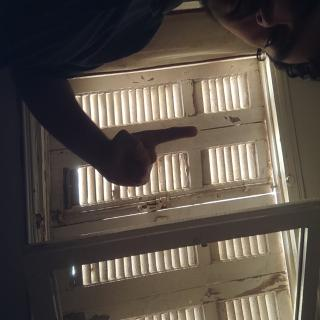BAA: (89, 160, 142, 294)
